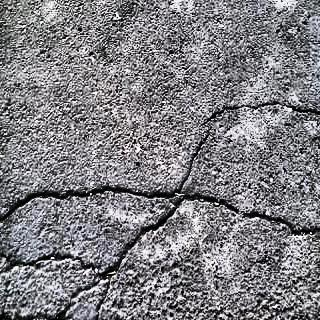crack: (0, 184, 185, 221), (180, 190, 320, 237), (0, 250, 120, 282), (110, 213, 181, 265), (177, 112, 216, 195), (204, 101, 320, 128), (56, 271, 115, 320)
